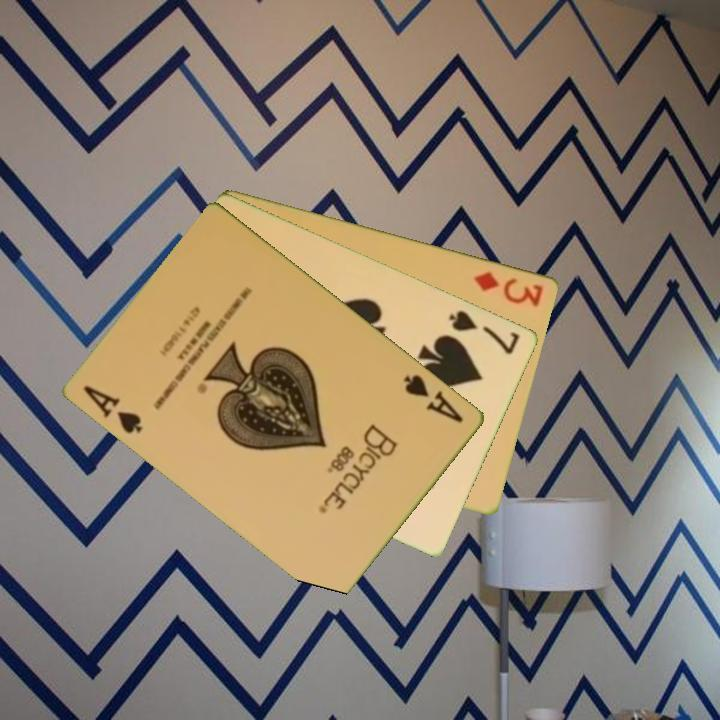3d: (471, 267, 547, 310)
7s: (445, 306, 523, 357)
As: (400, 370, 467, 426), (80, 381, 146, 437)
